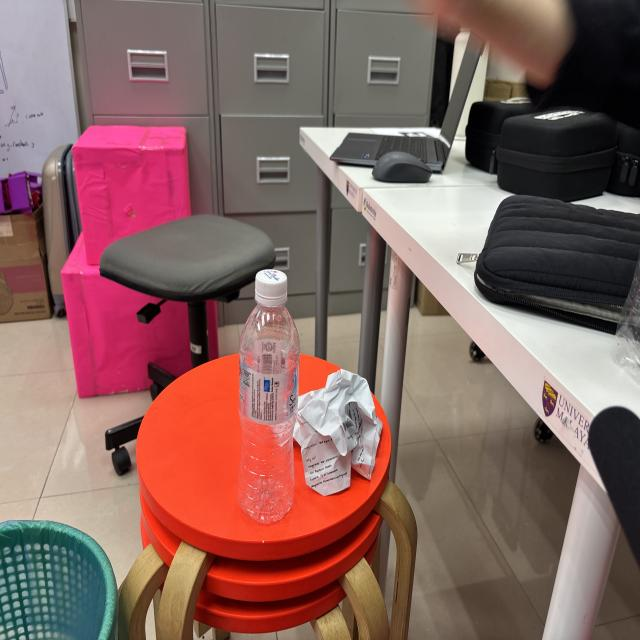crumpled_paper: (292, 367, 387, 501)
plastic_bottle: (237, 267, 300, 528)
